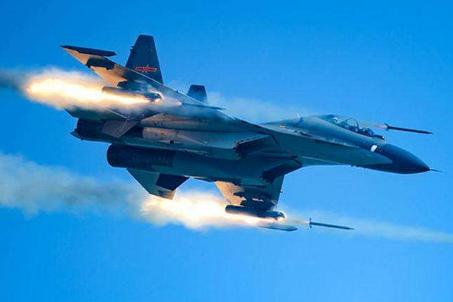airplane: (55, 28, 446, 228)
